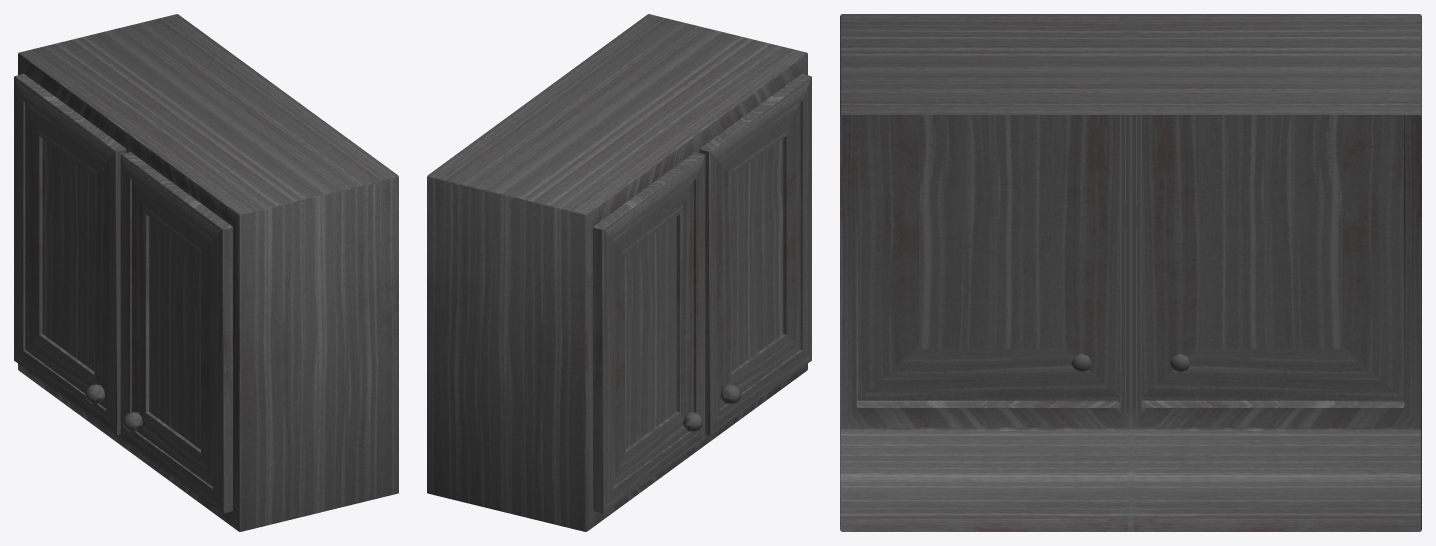
Rendered from SM_Cabinet_Small.fbx.
3 views of the same model, side by side, from view 1: azimuth 30°, elevation 25°; view 2: azimuth 150°, elevation 25°; view 3: azimuth 270°, elevation 25° (orthographic). The views are drawn at different scales.
Parts seen in each view (by area): view 1: SM_Cupboards_Small; view 2: SM_Cupboards_Small; view 3: SM_Cupboards_Small.
Part boxes in pixels (x1,y1,x2,y2): SM_Cupboards_Small: (14, 14, 398, 531); SM_Cupboards_Small: (427, 14, 811, 531); SM_Cupboards_Small: (840, 14, 1421, 531).
Size of the model in its own units: 45.24 by 75.37 by 95.34.
